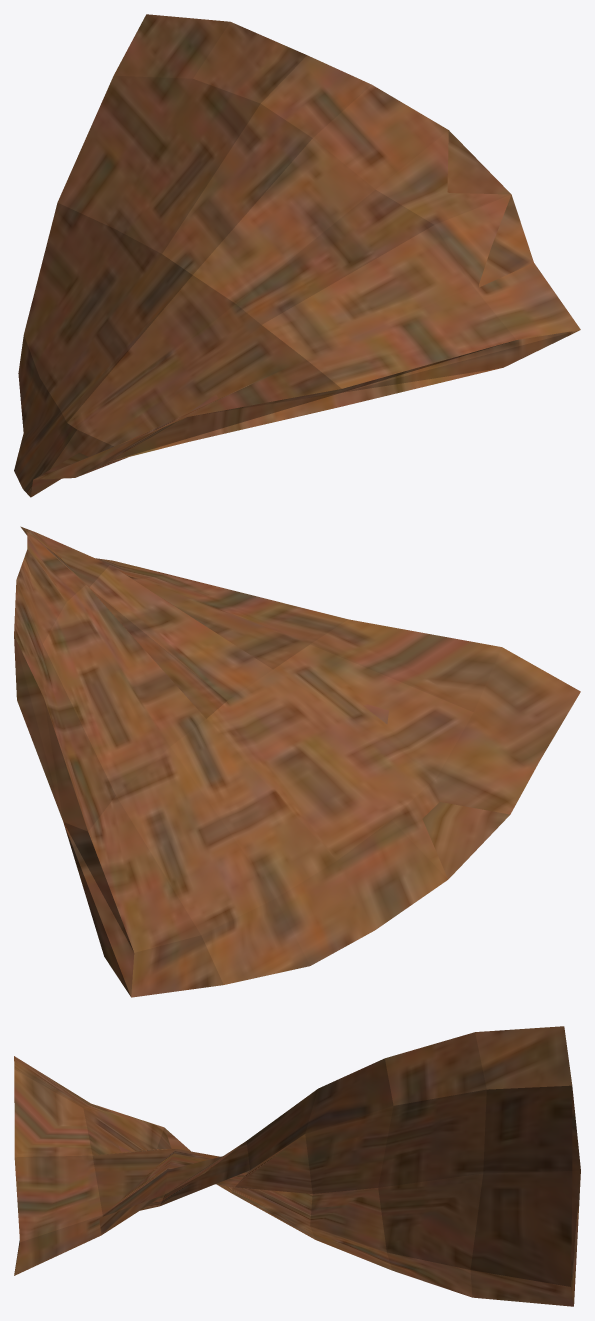
Rendered from debris_hull_plate.glb.
3 renders of one model, top to bottom at view 1: azimuth 30°, elevation 25°; view 2: azimuth 150°, elevation 25°; view 3: azimuth 270°, elevation 25°, orthographic. The views are drawn at different scales.
Parts seen in each view (by area): view 1: HullPlate; view 2: HullPlate; view 3: HullPlate.
Boxes of the visible parts, x1=… form: HullPlate: x1=14, y1=14, x2=580, y2=497; HullPlate: x1=14, y1=526, x2=580, y2=997; HullPlate: x1=14, y1=1026, x2=580, y2=1306.
Size of the model in its own units: 6.19 by 4.45 by 6.17.
Materials: 1 (1 with a texture image).
